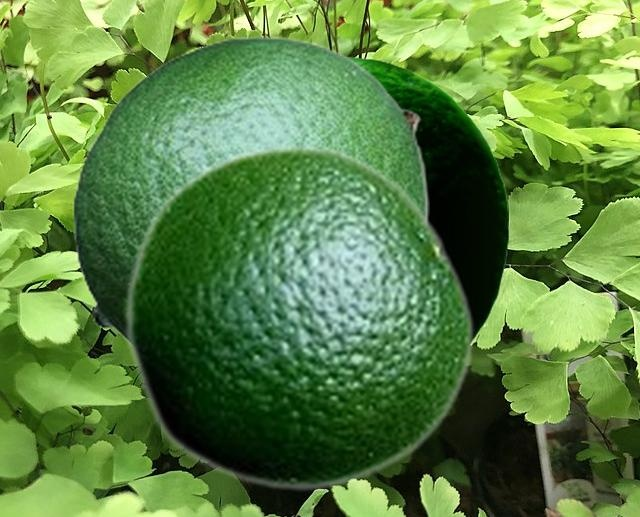calamansi: (123, 143, 475, 492), (72, 35, 428, 344), (343, 53, 508, 341)
